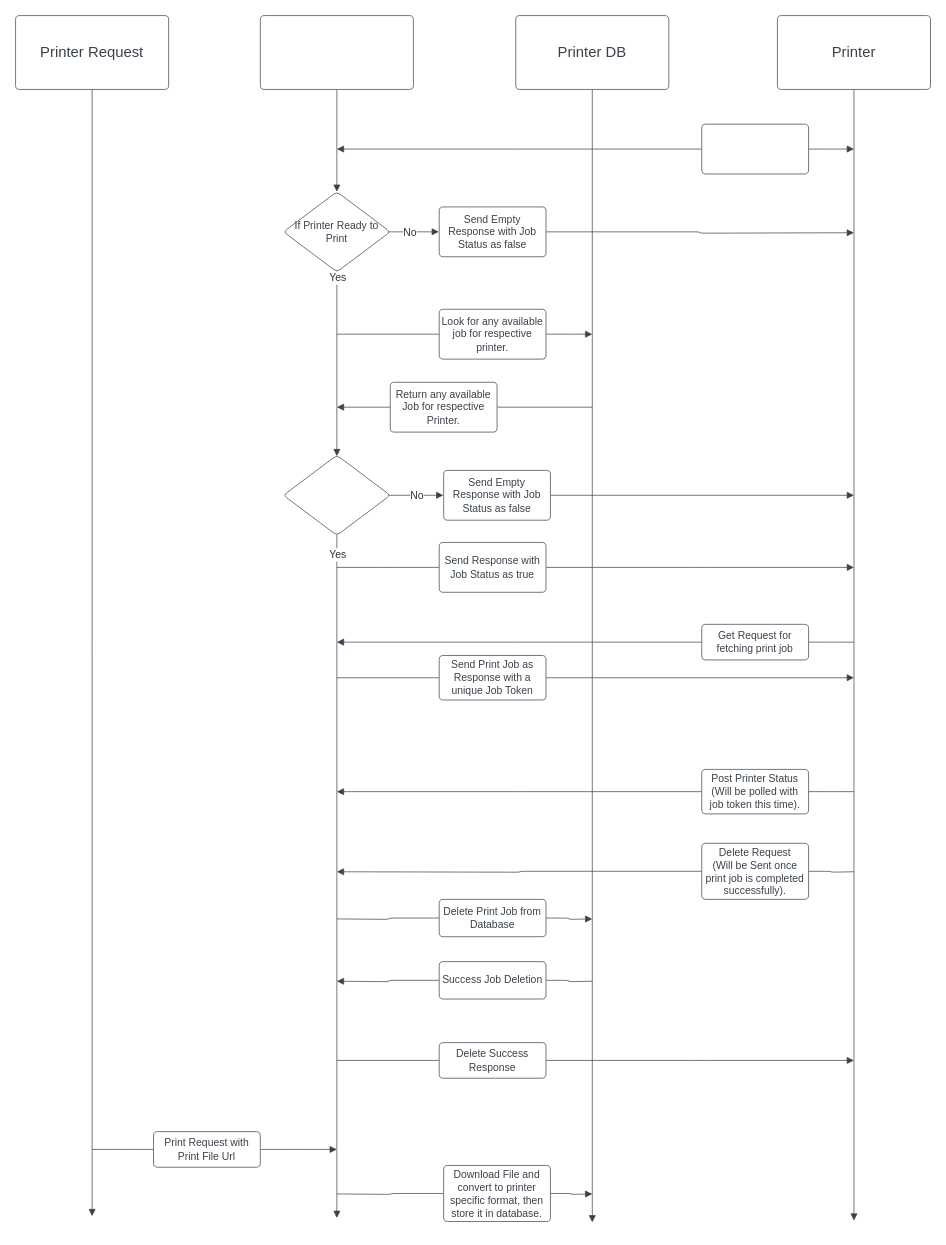
This 946x1245 diagram has some shape labels left out. Each missing label, with the centre of its shape:
If Job Available: pixel 336 494
Post Printer Status (Will be polled in set time): pixel 754 148
Printer Manager Service Adapter (CloudPRNT): pixel 336 52
